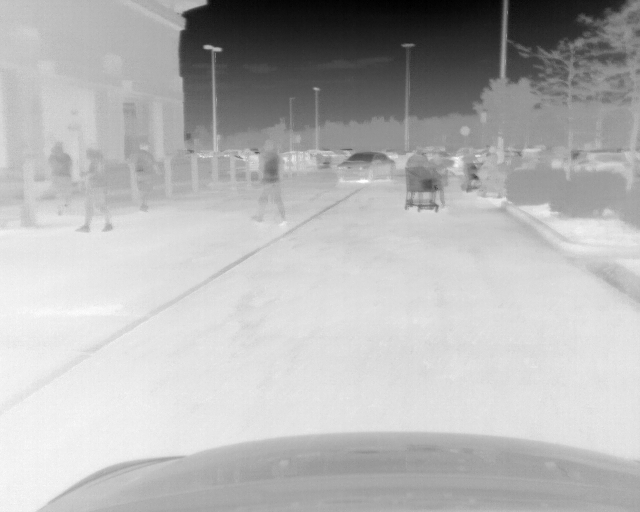car: (338, 152, 395, 182)
people: (249, 139, 288, 227), (77, 149, 113, 233), (130, 144, 159, 212), (49, 143, 74, 214), (479, 146, 502, 198), (406, 147, 423, 209), (430, 150, 447, 209), (461, 147, 478, 191)
